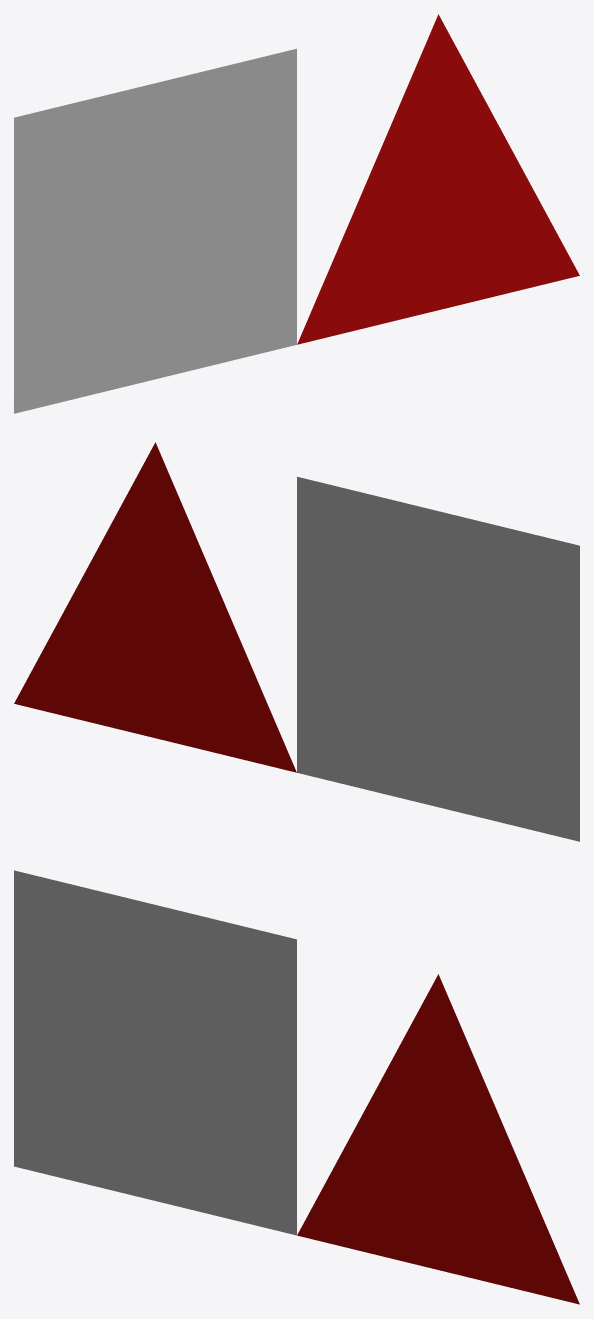
The model's file is _reference_2insts.dae.
3 views of the same model, one above another, from view 1: azimuth 30°, elevation 25°; view 2: azimuth 150°, elevation 25°; view 3: azimuth 330°, elevation 25° (orthographic).
Visible parts, largest first — view 1: cube, triangle; view 2: cube, triangle; view 3: cube, triangle.
Part boxes in pixels (x1,y1,x2,y2): cube: [14, 48, 296, 413]; triangle: [297, 14, 579, 344]; cube: [297, 476, 579, 841]; triangle: [14, 442, 296, 772]; cube: [14, 870, 296, 1235]; triangle: [297, 974, 579, 1304].
Bounding box in the file's own units: 200 × 100 × 0.
